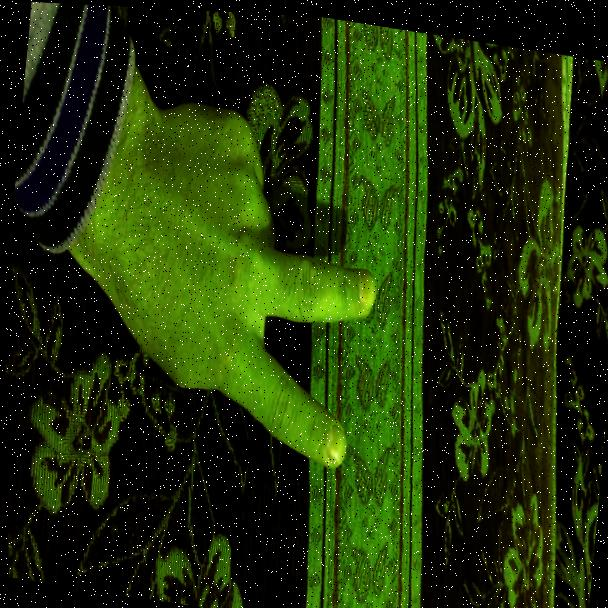two: (66, 65, 406, 512)
